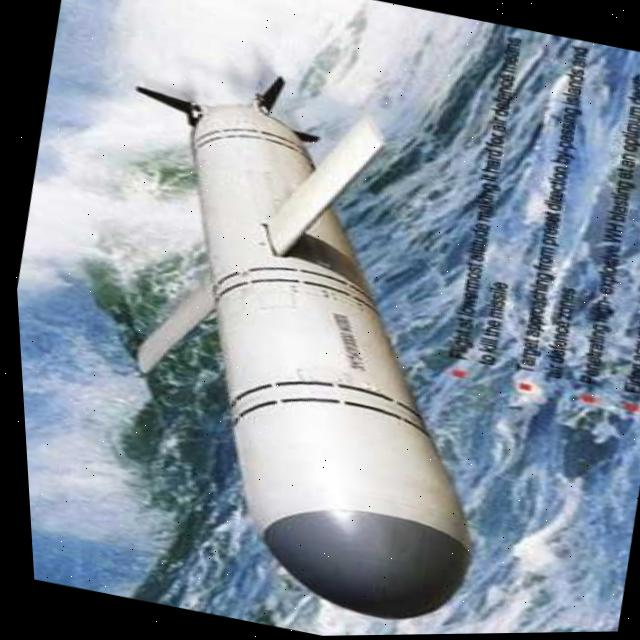missile: (31, 46, 558, 640)
